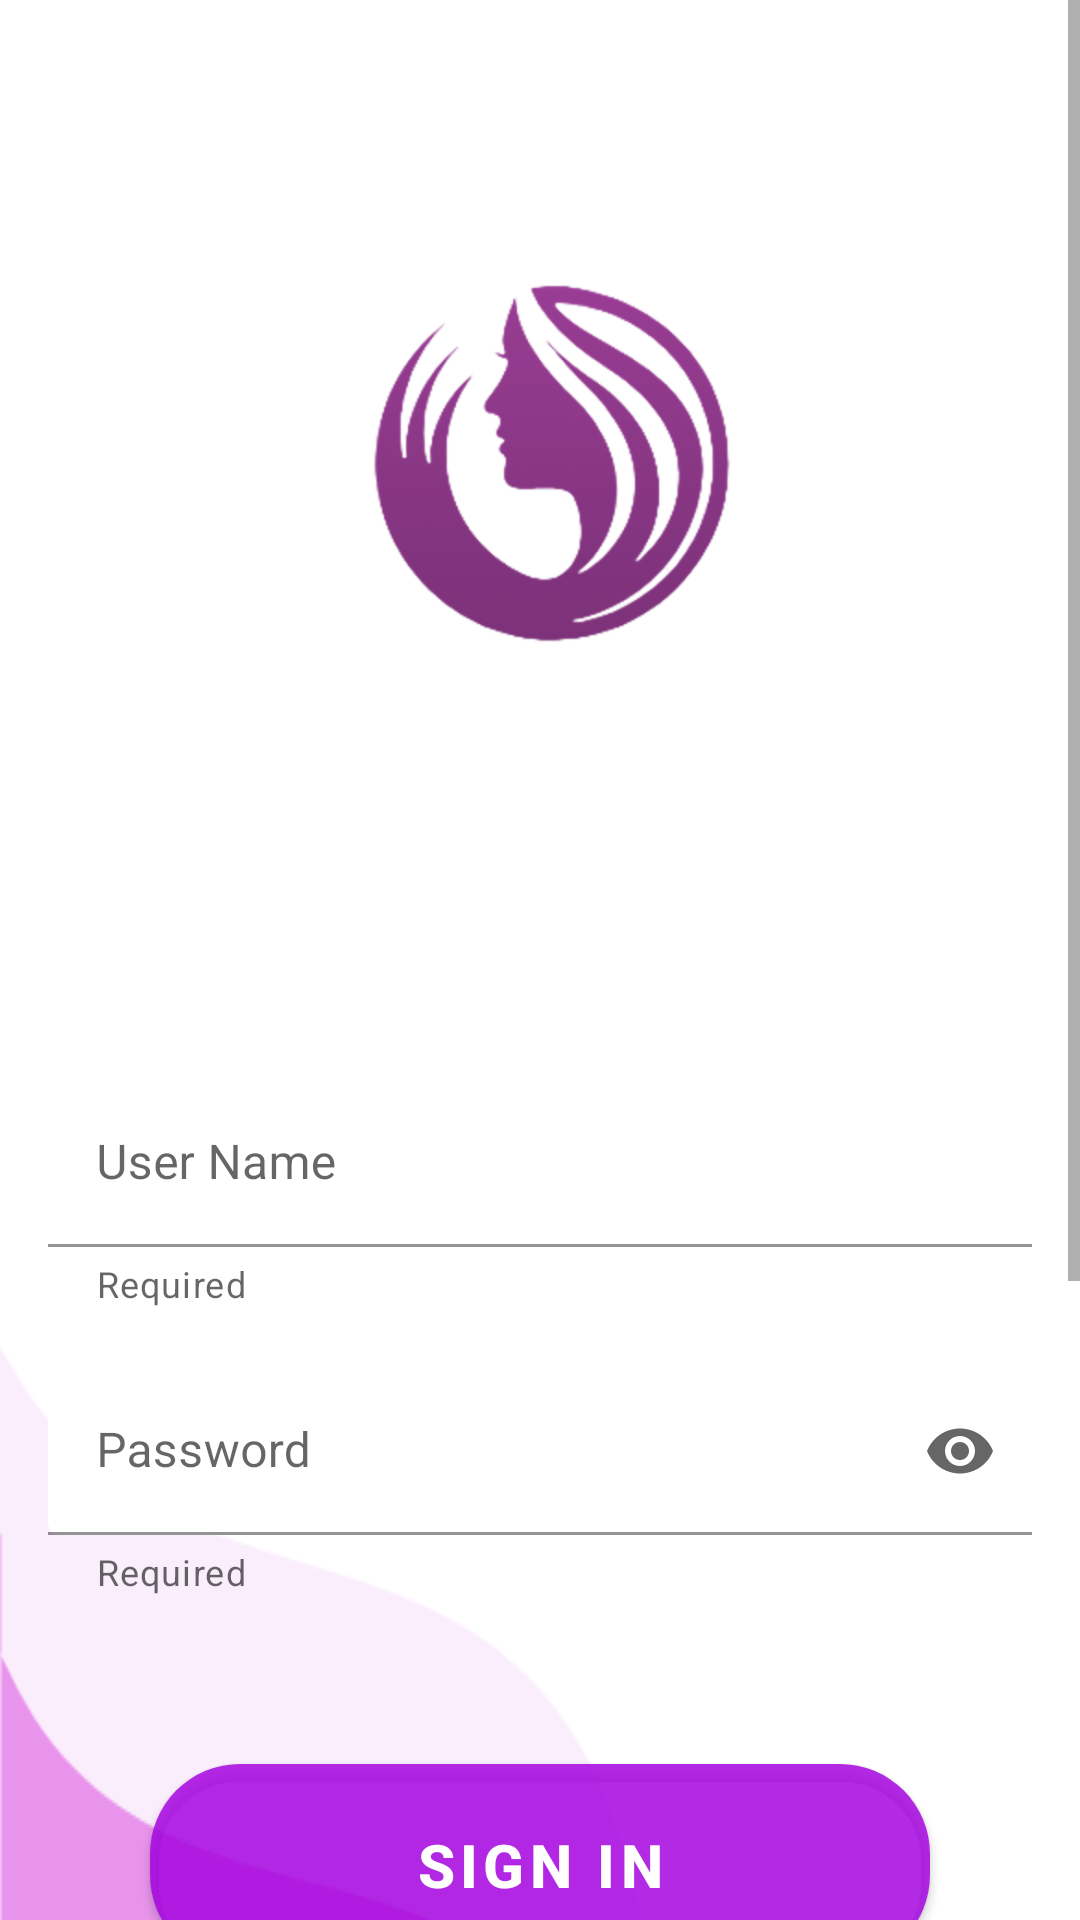

Where to tap for icons on this 1080*1920 app screen, as (x,y):
femme: (552,463)
